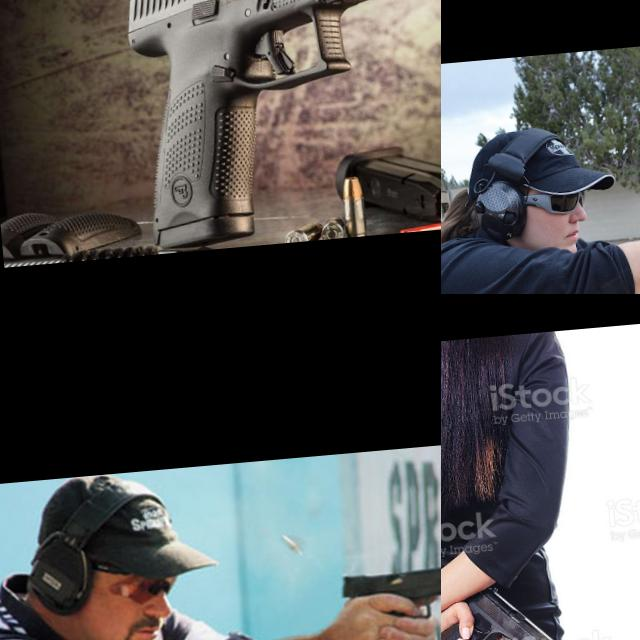handgun: (111, 0, 441, 254), (441, 576, 569, 640), (333, 554, 441, 626), (441, 554, 501, 640)
